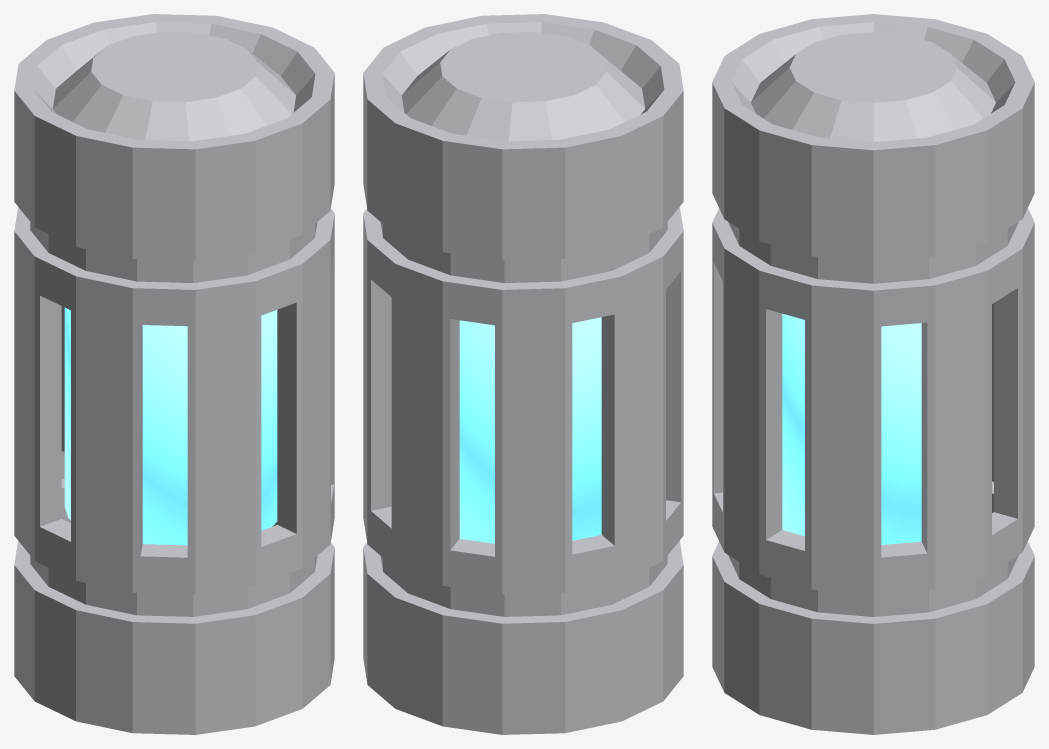
Rendered from celda_05.glb.
3 renders of one model, left to right at view 1: azimuth 30°, elevation 25°; view 2: azimuth 150°, elevation 25°; view 3: azimuth 270°, elevation 25°, orthographic.
Parts seen in each view (by area): view 1: Celda_05, Nucleo_05; view 2: Celda_05, Nucleo_05; view 3: Celda_05, Nucleo_05.
Boxes of the visible parts, box(x1,y1,x2,y2) form: Celda_05: box(14, 14, 334, 734); Nucleo_05: box(64, 307, 277, 545); Celda_05: box(363, 14, 683, 734); Nucleo_05: box(459, 317, 601, 543); Celda_05: box(712, 14, 1034, 734); Nucleo_05: box(782, 313, 921, 544).
Bounding box in the file's own units: 1 × 2.05 × 1.
